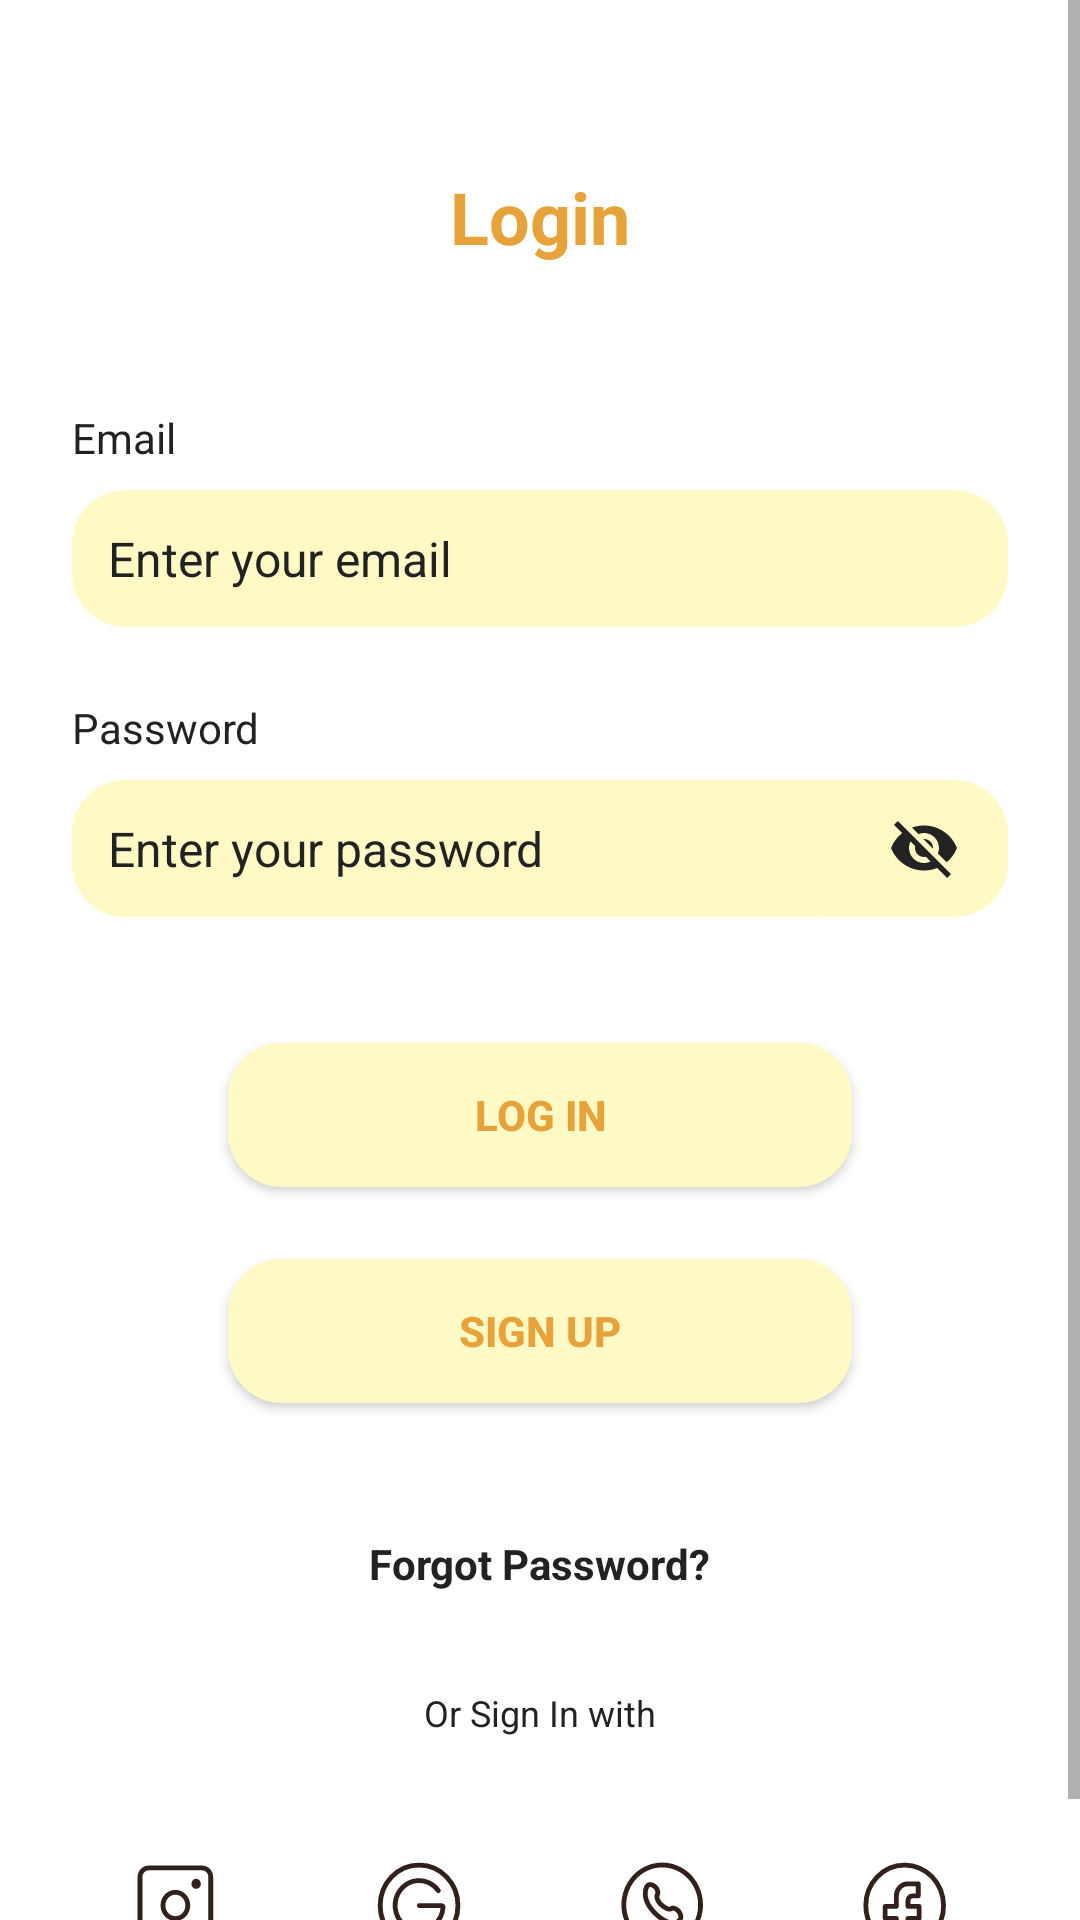

Screen size 1080px×1920px. Icon name, then its center in pixels as [x,y]:
Toggle password visibility: [924,849]
